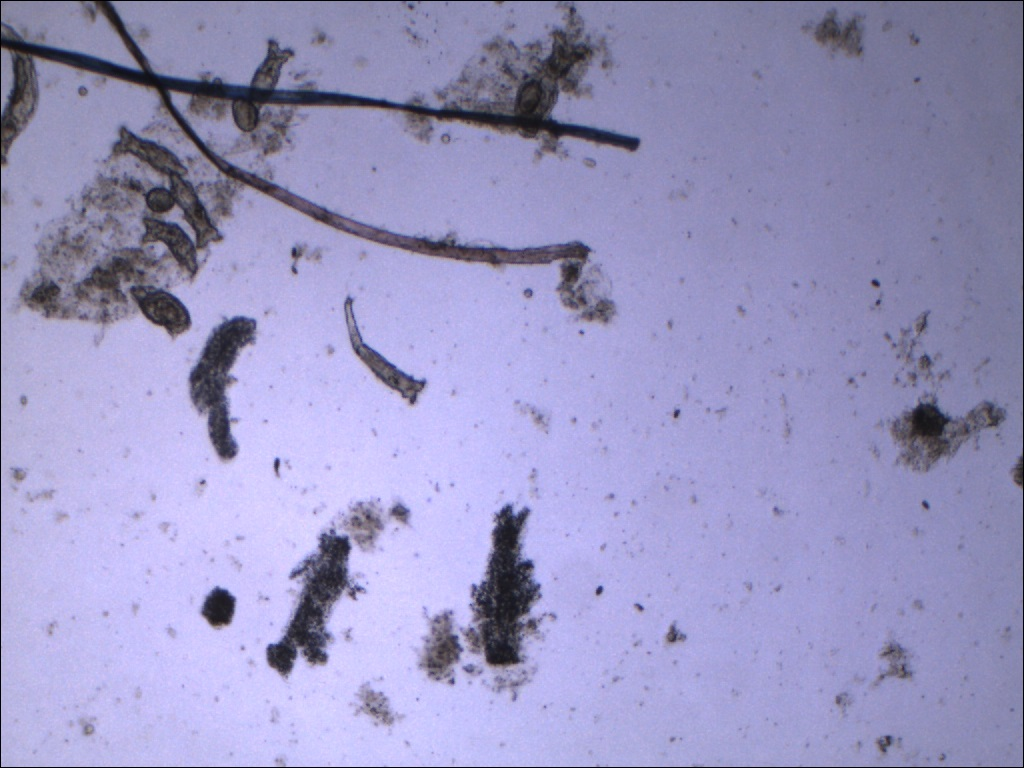amoeba: (261, 526, 372, 685), (465, 497, 552, 669), (185, 307, 263, 469)
